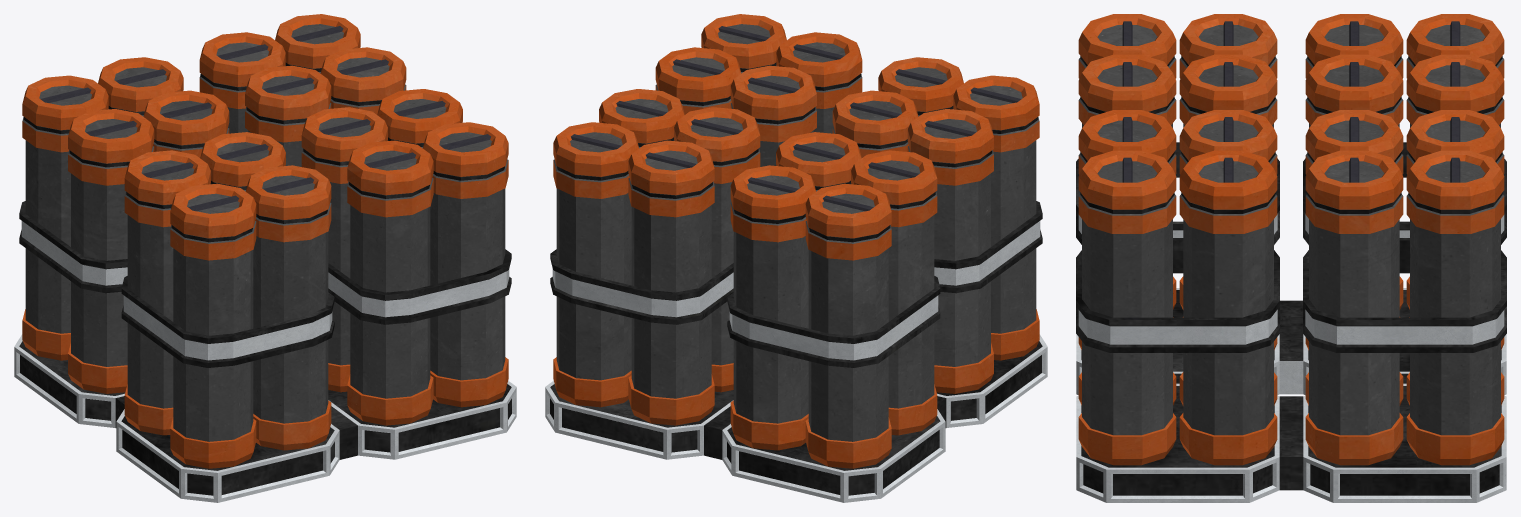
Rendered from Palete 1.fbx.
3 views of the same model, side by side, from view 1: azimuth 30°, elevation 25°; view 2: azimuth 150°, elevation 25°; view 3: azimuth 270°, elevation 25° (orthographic). The views are drawn at different scales.
Parts seen in each view (by area): view 1: Palete; view 2: Palete; view 3: Palete.
Boxes of the visible parts, box(x1,y1,x2,y2) form: Palete: box(14, 14, 516, 502); Palete: box(545, 14, 1047, 502); Palete: box(1076, 14, 1506, 502).
Bounding box in the file's own units: 1.9 × 1.52 × 1.9.
Materials: 5 (5 with a texture image).
